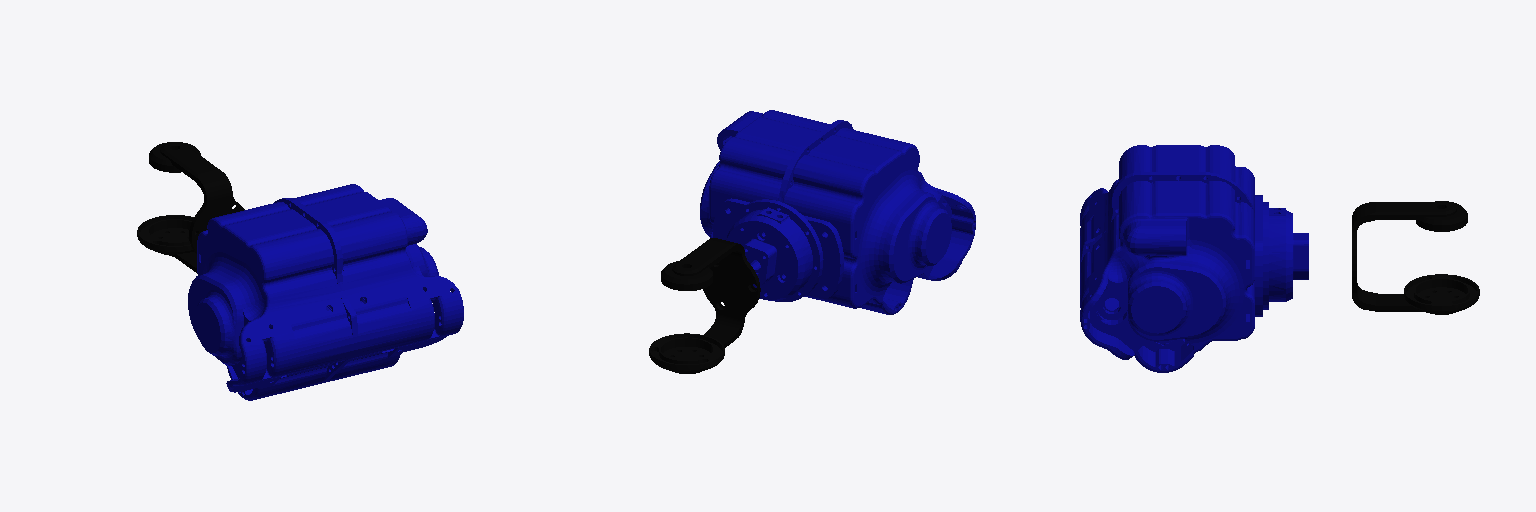
Rendered from endEffectorWPalm_left.obj.
3 views of the same model, side by side, from view 1: azimuth 30°, elevation 25°; view 2: azimuth 150°, elevation 25°; view 3: azimuth 270°, elevation 25° (orthographic).
Visible parts, largest first — view 1: palm_palm.001, wrist_yaw_right.003, wrist_yaw_right_flange.003; view 2: palm_palm.001, wrist_yaw_right.003, wrist_yaw_right_flange.003; view 3: palm_palm.001, wrist_yaw_right.003, wrist_yaw_right_flange.003.
Boxes of the visible parts, <box> form: palm_palm.001: <box>188,184,463,400</box>; wrist_yaw_right.003: <box>149,142,244,273</box>; wrist_yaw_right_flange.003: <box>137,215,197,254</box>; palm_palm.001: <box>700,110,975,314</box>; wrist_yaw_right.003: <box>661,238,760,373</box>; wrist_yaw_right_flange.003: <box>649,333,724,372</box>; palm_palm.001: <box>1080,145,1308,372</box>; wrist_yaw_right.003: <box>1352,201,1467,314</box>; wrist_yaw_right_flange.003: <box>1404,274,1479,313</box>.
Size of the model in its own units: 0.154 by 0.1113 by 0.2431.